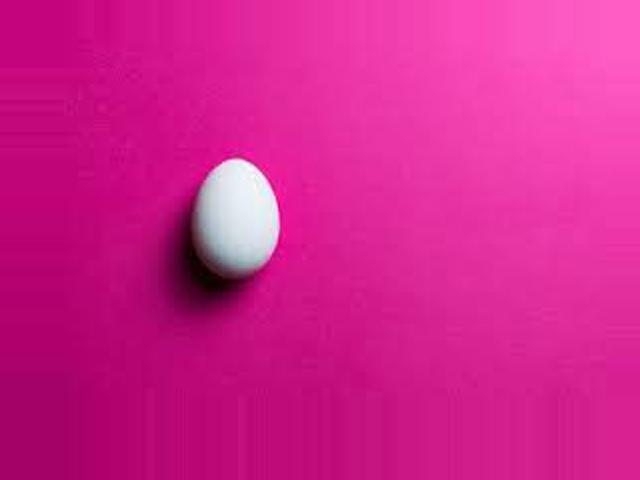egg: (192, 158, 280, 278)
